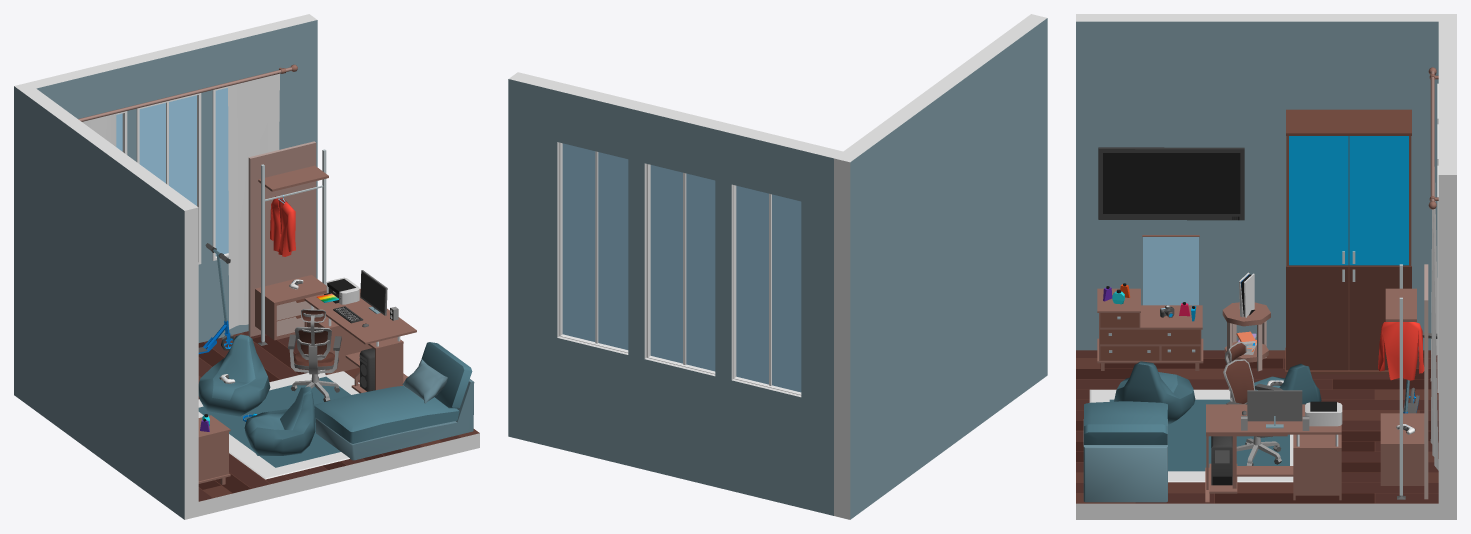
The model's file is room_15.glb.
3 renders of one model, left to right at view 1: azimuth 30°, elevation 25°; view 2: azimuth 150°, elevation 25°; view 3: azimuth 270°, elevation 25°, orthographic. The views are drawn at different scales.
Parts seen in each view (by area): view 1: Walls_116.014, shelf_040.001, bed_014.001, Walls_116.017, window_001.002, Curtains_020.003, office_table_011.002, Walls_116.015, carpet_004.005, floor_016.003, Walls_056.004, office_chair_022.003 (+10 smaller); view 2: Walls_116.014, window_001.002, Walls_116.016, Walls_116.015, Walls_116.017, Walls_116.013, Walls_116.018, Walls_116.019; view 3: Walls_116.014, closet_022.001, floor_016.003, electronics_027.004, shelf_038.001, office_table_011.002, bed_014.001, shelf_040.001, Walls_056.004, Walls_116.015, carpet_004.005, office_chair_022.004 (+10 smaller).
Boxes of the visible parts, x1,y1,x2,y2 form: Walls_116.014: [14, 82, 198, 519]; shelf_040.001: [248, 141, 328, 345]; bed_014.001: [314, 342, 474, 460]; Walls_116.017: [56, 24, 275, 118]; window_001.002: [116, 86, 228, 264]; Curtains_020.003: [228, 73, 279, 329]; office_table_011.002: [304, 270, 416, 393]; Walls_116.015: [267, 14, 317, 278]; carpet_004.005: [198, 370, 359, 479]; floor_016.003: [198, 331, 479, 501]; Walls_056.004: [198, 333, 479, 516]; office_chair_022.003: [198, 334, 270, 416]; Walls_116.014: [834, 14, 1047, 519]; window_001.002: [559, 142, 801, 395]; Walls_116.016: [557, 336, 801, 507]; Walls_116.015: [508, 72, 566, 448]; Walls_116.017: [557, 84, 810, 201]; Walls_116.013: [801, 143, 842, 515]; Walls_116.018: [628, 159, 646, 358]; Walls_116.019: [715, 180, 733, 380]; Walls_116.014: [1076, 14, 1456, 350]; closet_022.001: [1285, 109, 1411, 374]; floor_016.003: [1076, 350, 1438, 503]; electronics_027.004: [1098, 147, 1244, 220]; shelf_038.001: [1097, 235, 1203, 370]; office_table_011.002: [1205, 390, 1341, 502]; bed_014.001: [1083, 401, 1167, 502]; shelf_040.001: [1378, 264, 1428, 499]; Walls_056.004: [1076, 358, 1438, 519]; Walls_116.015: [1438, 152, 1456, 519]; carpet_004.005: [1089, 389, 1293, 482]; office_chair_022.004: [1114, 361, 1195, 424].
Size of the model in its own units: 4.2 by 4.2 by 4.2.
Materials: 1 (1 with a texture image).
